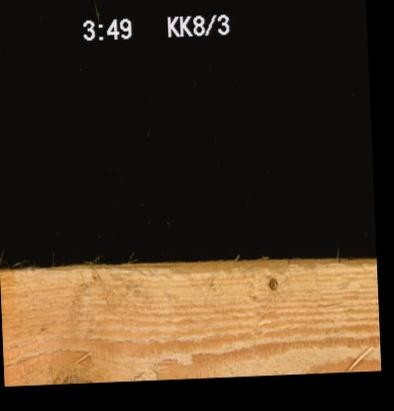dry_knot: (266, 274, 278, 291)
wave: (46, 257, 376, 273)
